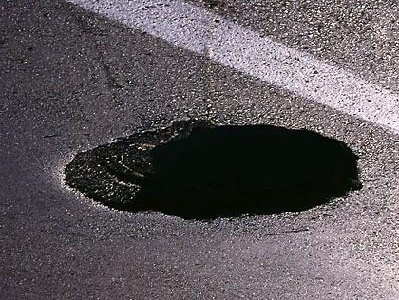pothole: (55, 117, 366, 227)
